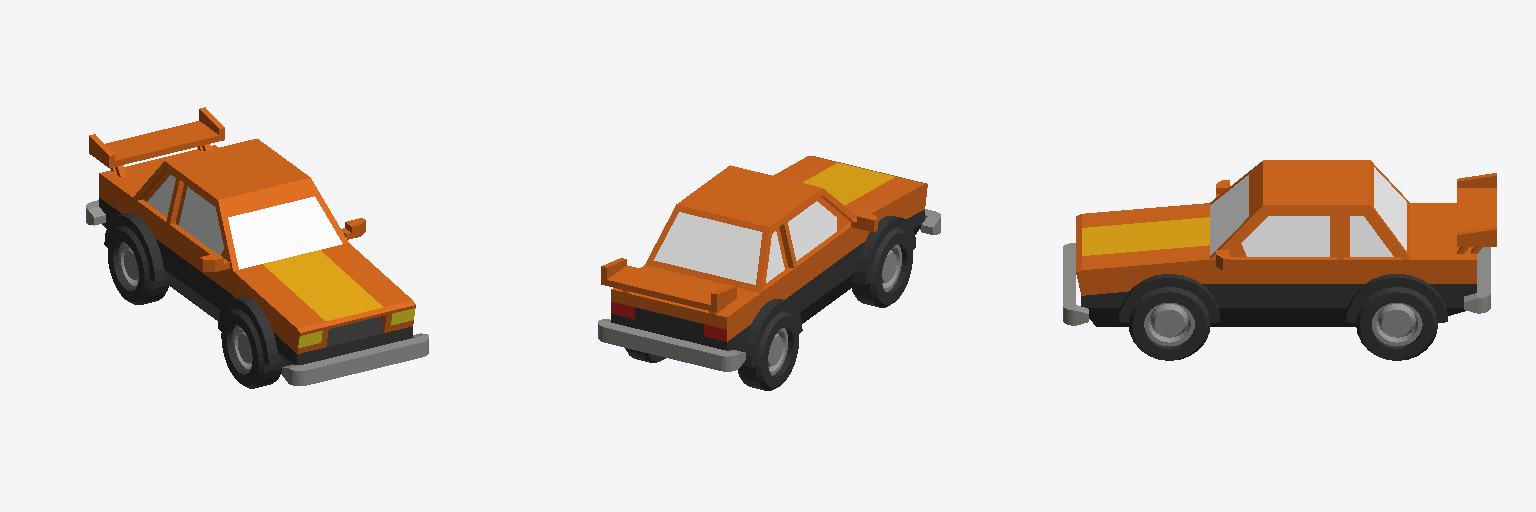
Rendered from car_sports_orange.obj.
3 views of the same model, side by side, from view 1: azimuth 30°, elevation 25°; view 2: azimuth 150°, elevation 25°; view 3: azimuth 270°, elevation 25° (orthographic).
Parts seen in each view (by area): view 1: mergedBlocks; view 2: mergedBlocks; view 3: mergedBlocks.
Boxes of the visible parts, <box> form: mergedBlocks: <box>86,107,428,388</box>; mergedBlocks: <box>598,156,940,390</box>; mergedBlocks: <box>1063,160,1496,360</box>.
Size of the model in its own units: 1.4 by 1.21 by 3.25.